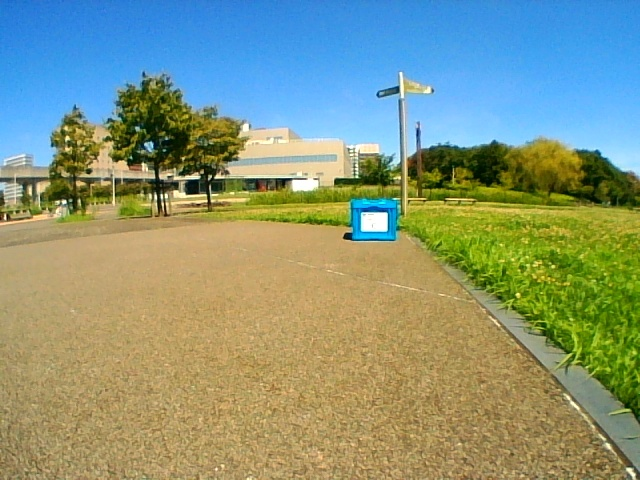blue_box: (351, 199, 394, 240)
tag: (362, 212, 389, 231)
